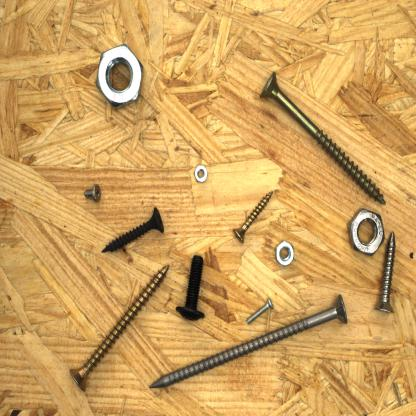screw: (146, 292, 350, 392), (256, 67, 388, 208), (66, 260, 172, 394), (99, 204, 168, 258), (172, 252, 210, 324), (230, 188, 274, 246), (371, 229, 398, 316), (244, 296, 276, 327), (82, 182, 104, 205)
